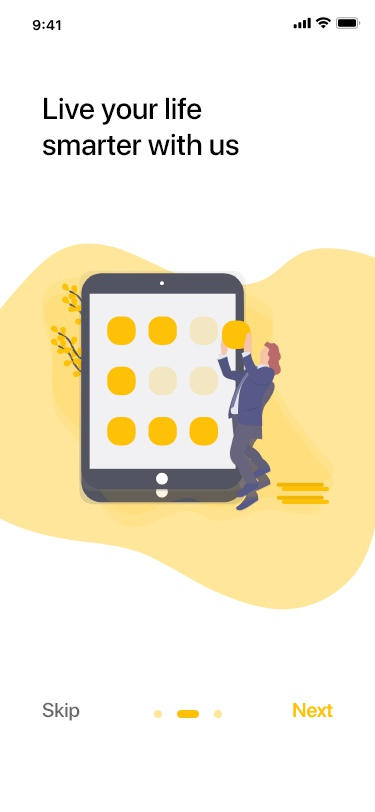Image: (44, 271, 335, 524)
PageIndicator: (153, 709, 225, 720)
Text: (43, 97, 240, 157), (43, 702, 81, 722), (292, 702, 335, 719)
UpperTaskBar: (32, 17, 361, 32)
